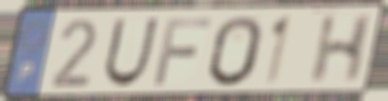1: (263, 11, 299, 89)
2: (46, 17, 99, 91)
F: (151, 15, 214, 88)
H: (306, 12, 377, 87)
O: (207, 14, 265, 89)
U: (101, 16, 161, 90)
